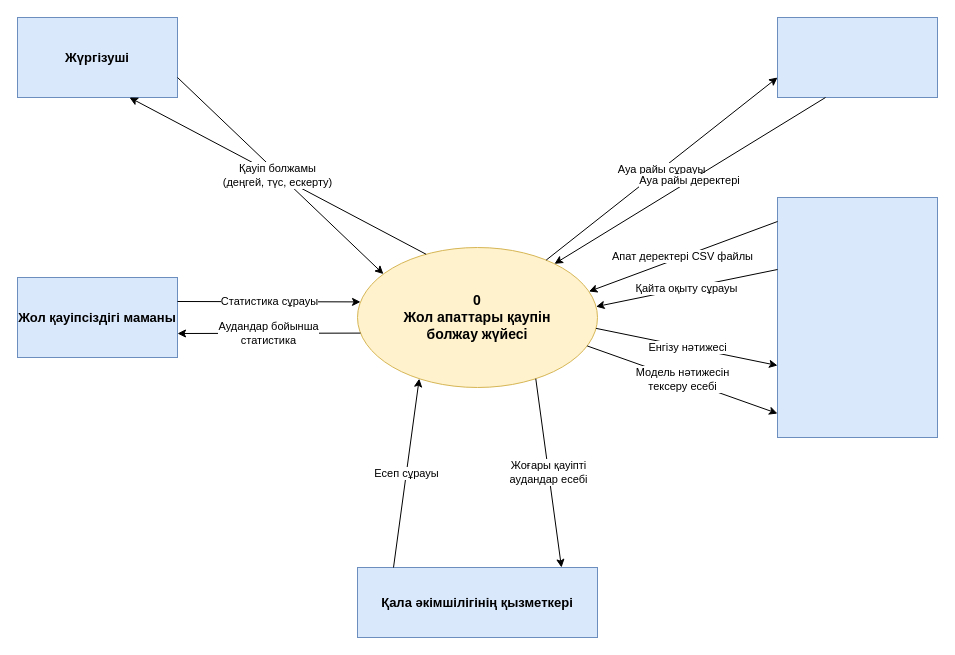
Some shapes in this 955 by 655 pixel diagram are drawn without their labels. The box of each missing label's shape, as (x1, y1, x2, y2) in pixels:
Ауа райы сервисі: (776, 16, 938, 98)
Әкімші: (776, 196, 938, 438)
